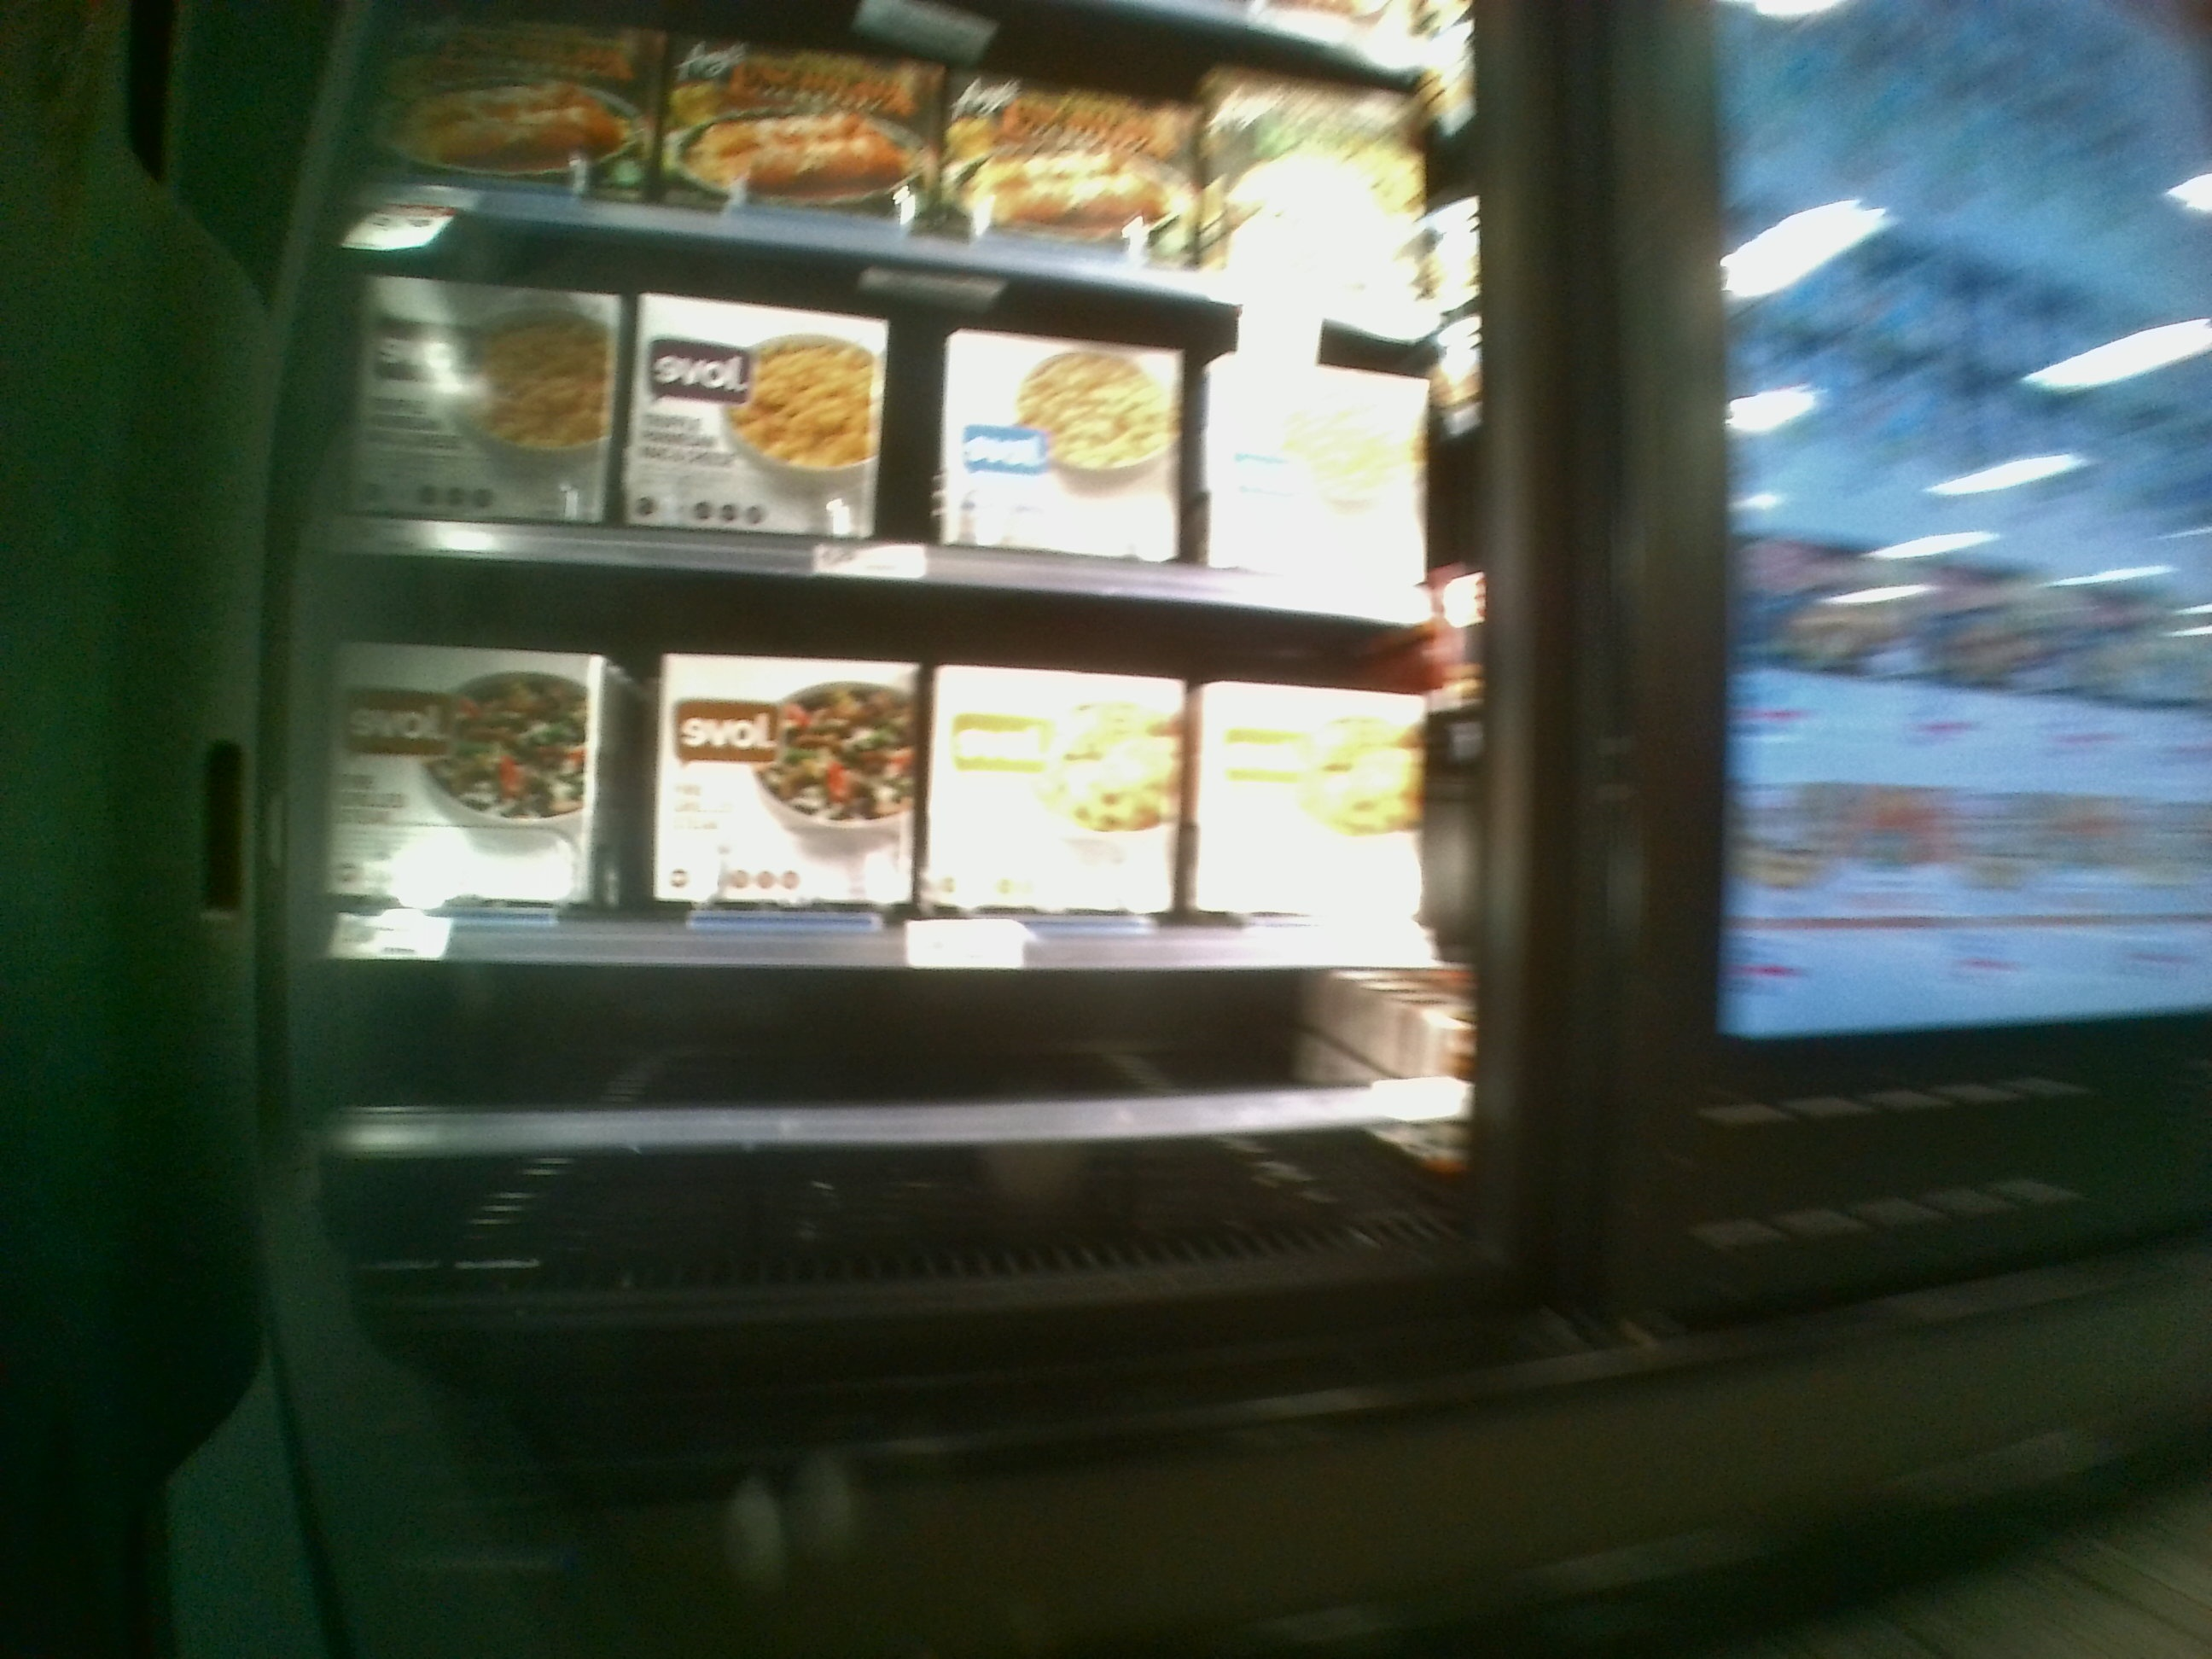shelf: (307, 596, 1479, 955), (315, 270, 1453, 603), (347, 964, 1449, 1258)
